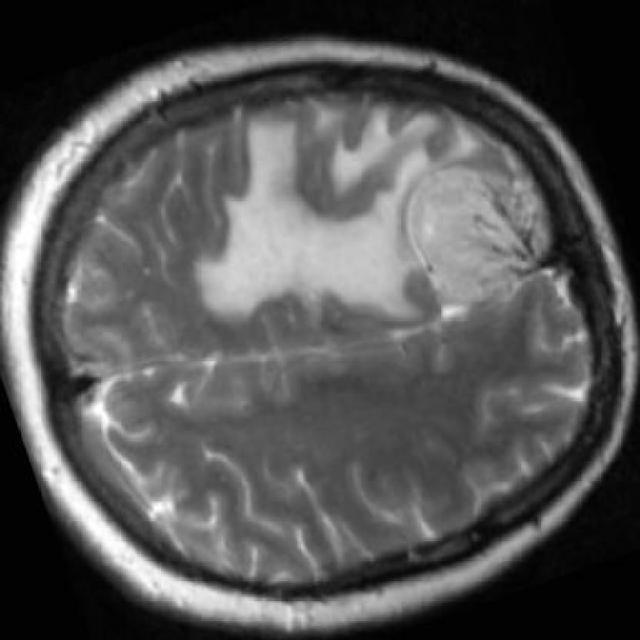Brain-Tumor: (394, 151, 558, 316)
